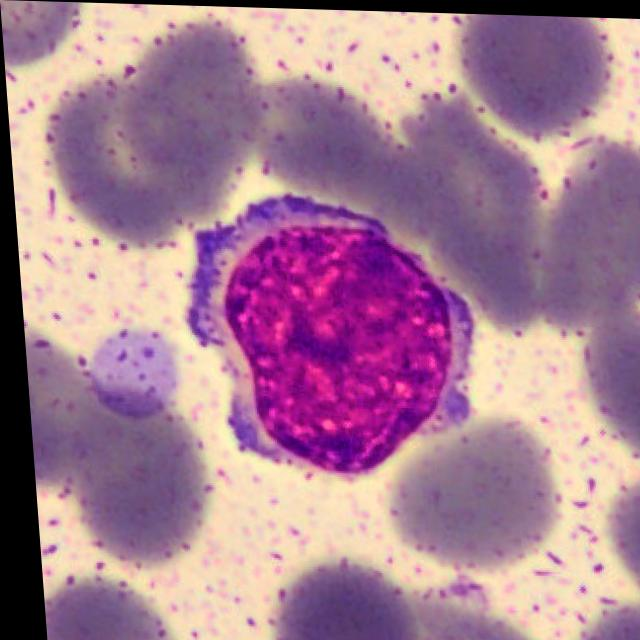Mieloblasto: (184, 192, 469, 472)
